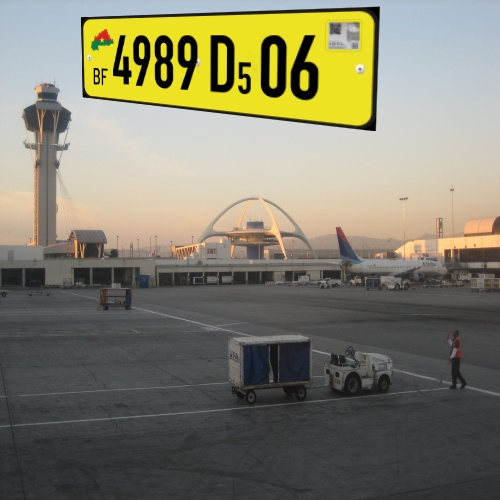plate: (75, 4, 388, 152)
